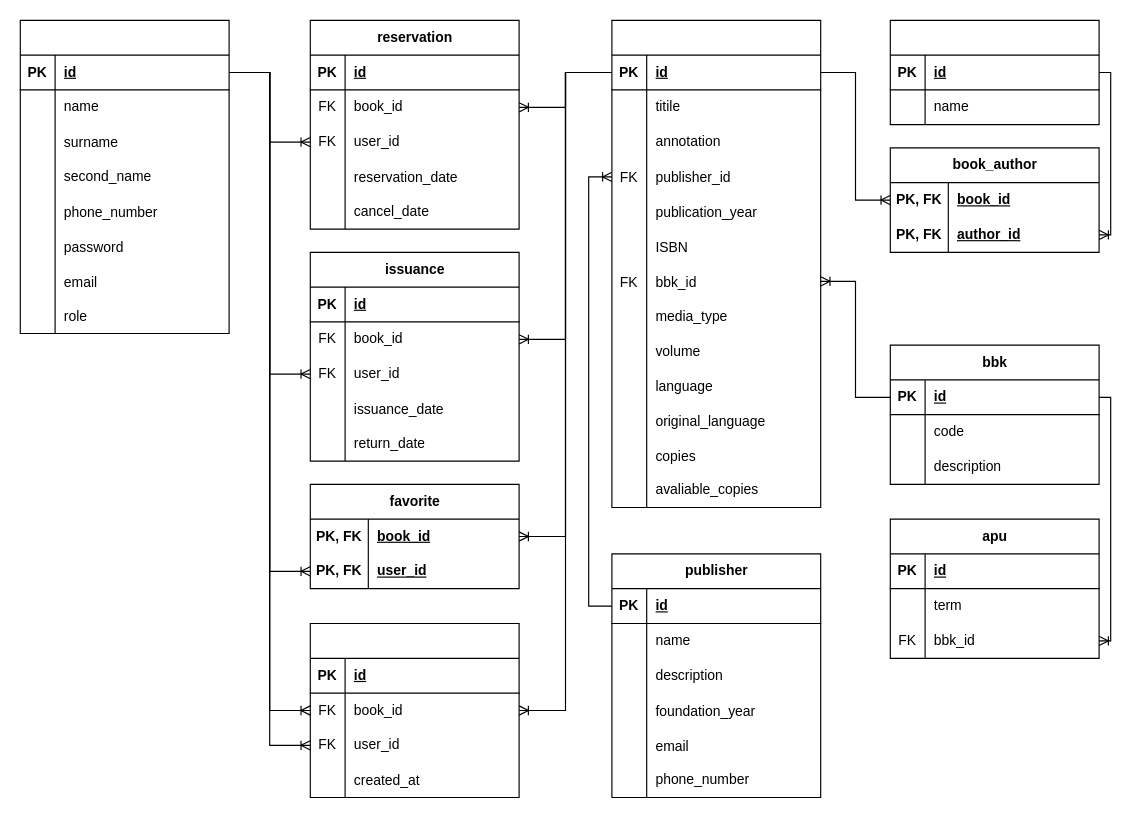
Some shapes in this 1140 by 818 pixel diagram are drawn without their labels. Here are the shapes that lost their labels. From the top down, the box of each, then its label:
(889, 19, 1099, 125): author
(19, 19, 229, 334): user
(611, 19, 821, 507): book
(309, 622, 519, 798): queue
